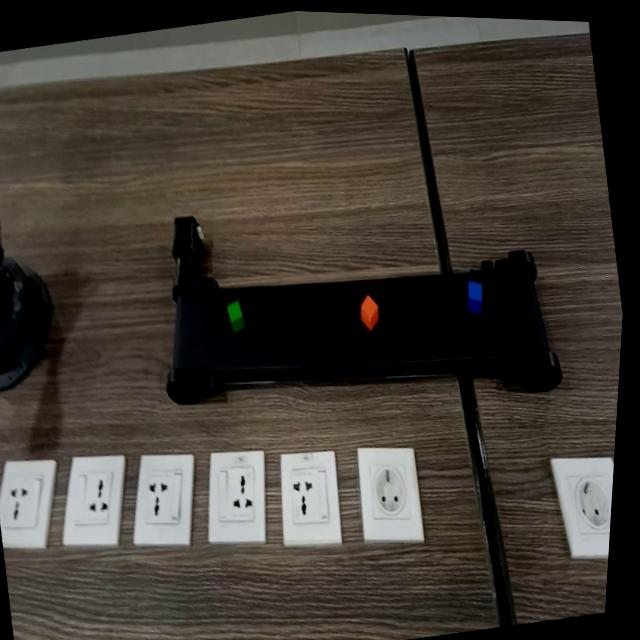cube: (221, 289, 253, 334), (463, 270, 493, 314)
